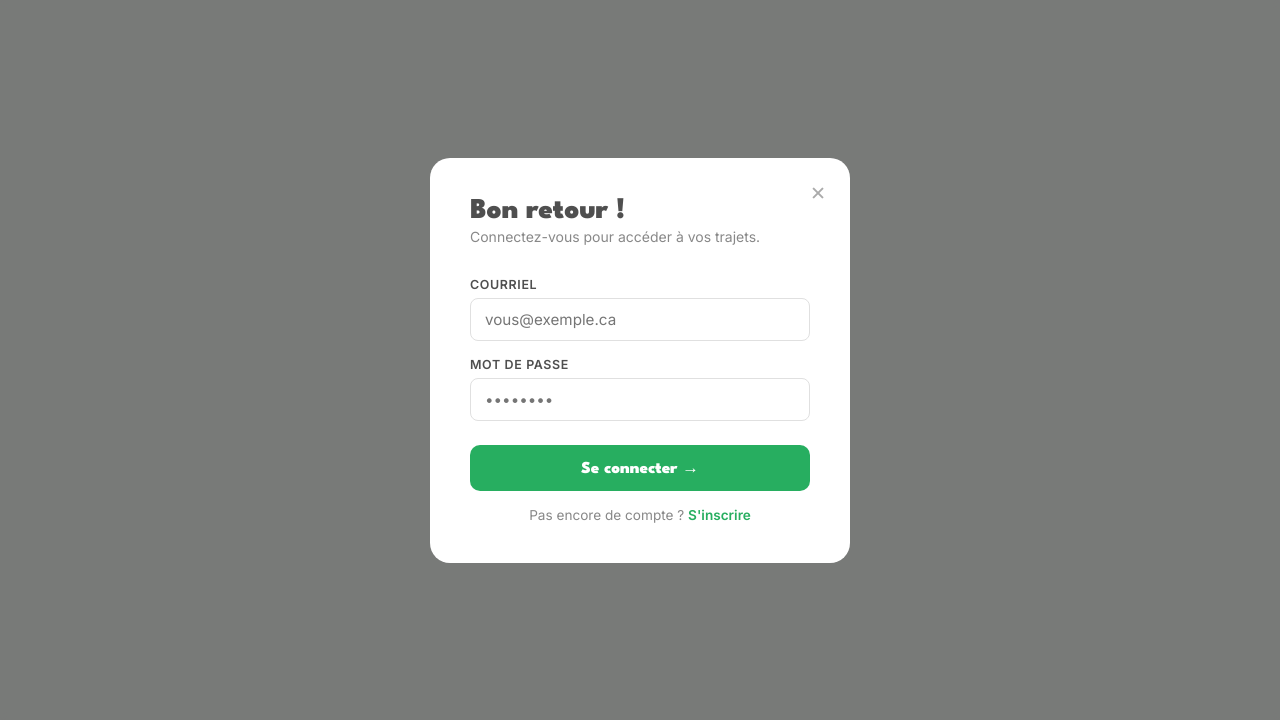
Test: AuthModal — mode connexion › affiche une erreur de validation si courriel vide
What coordinates should you click on to do the following:
click the button "Se connecter →"
I would click on:
 (640, 468)
Its box is [470,444,810,490].
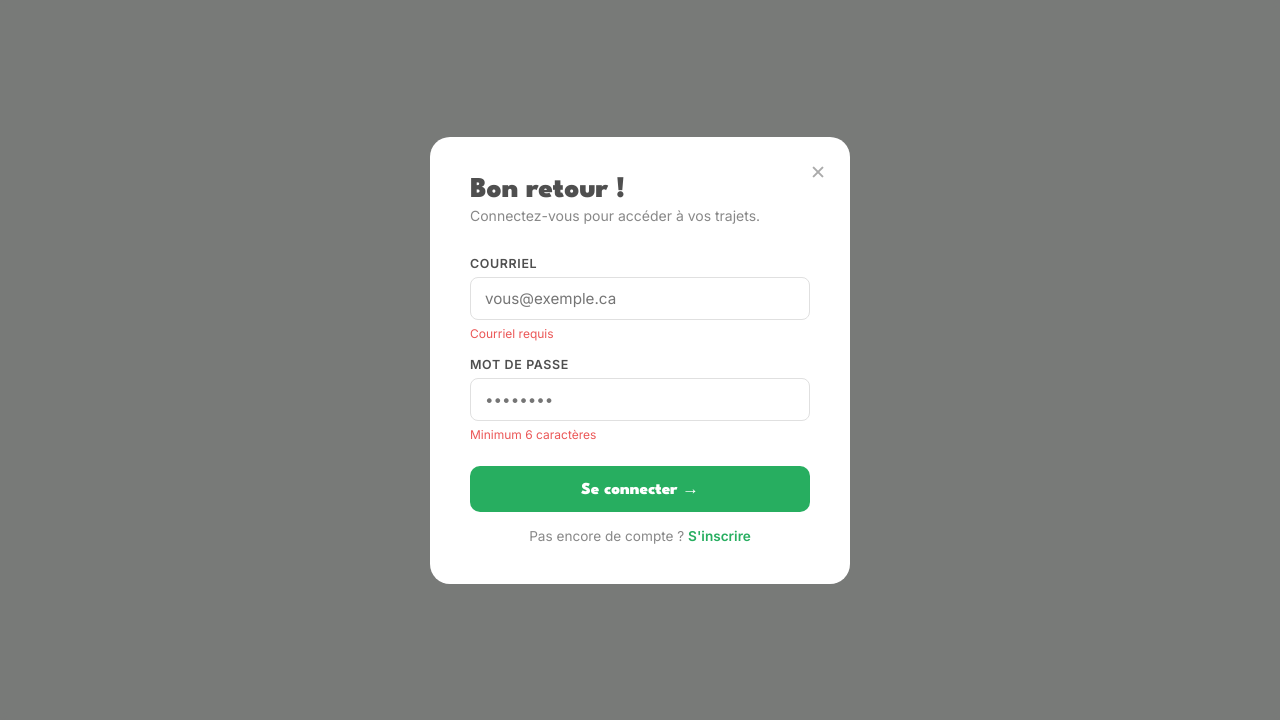
Expected: the text "Courriel requis" is shown, [470,326,554,340]
